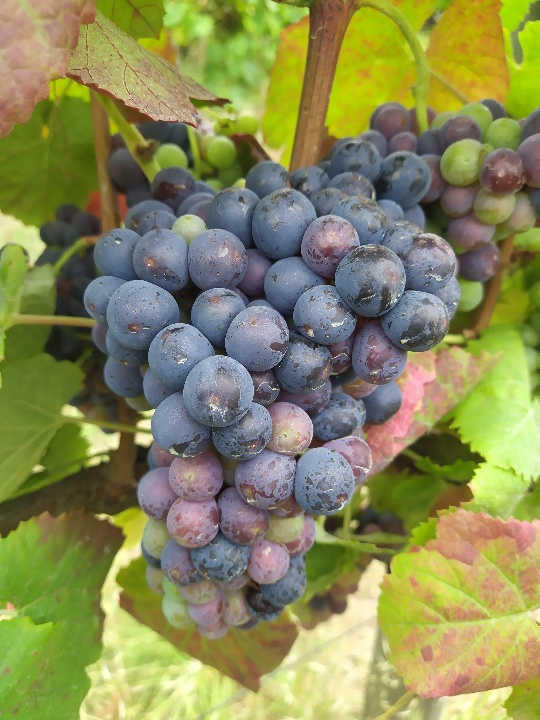grape: (75, 143, 462, 640)
